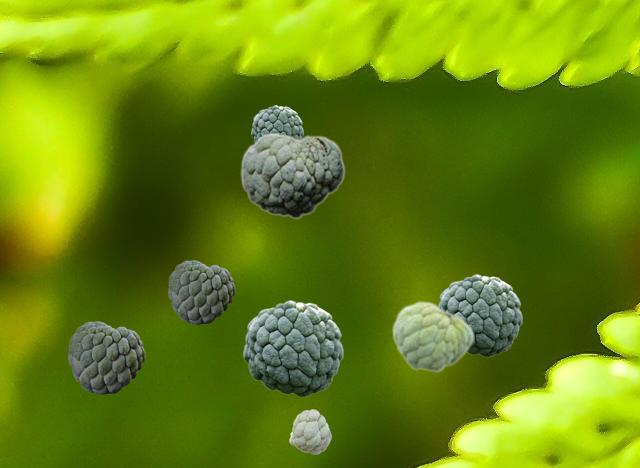atis: (243, 300, 342, 396), (240, 132, 344, 218), (438, 274, 521, 356), (391, 300, 473, 372), (68, 321, 144, 393), (168, 260, 234, 323), (251, 105, 302, 141), (289, 409, 330, 453)
